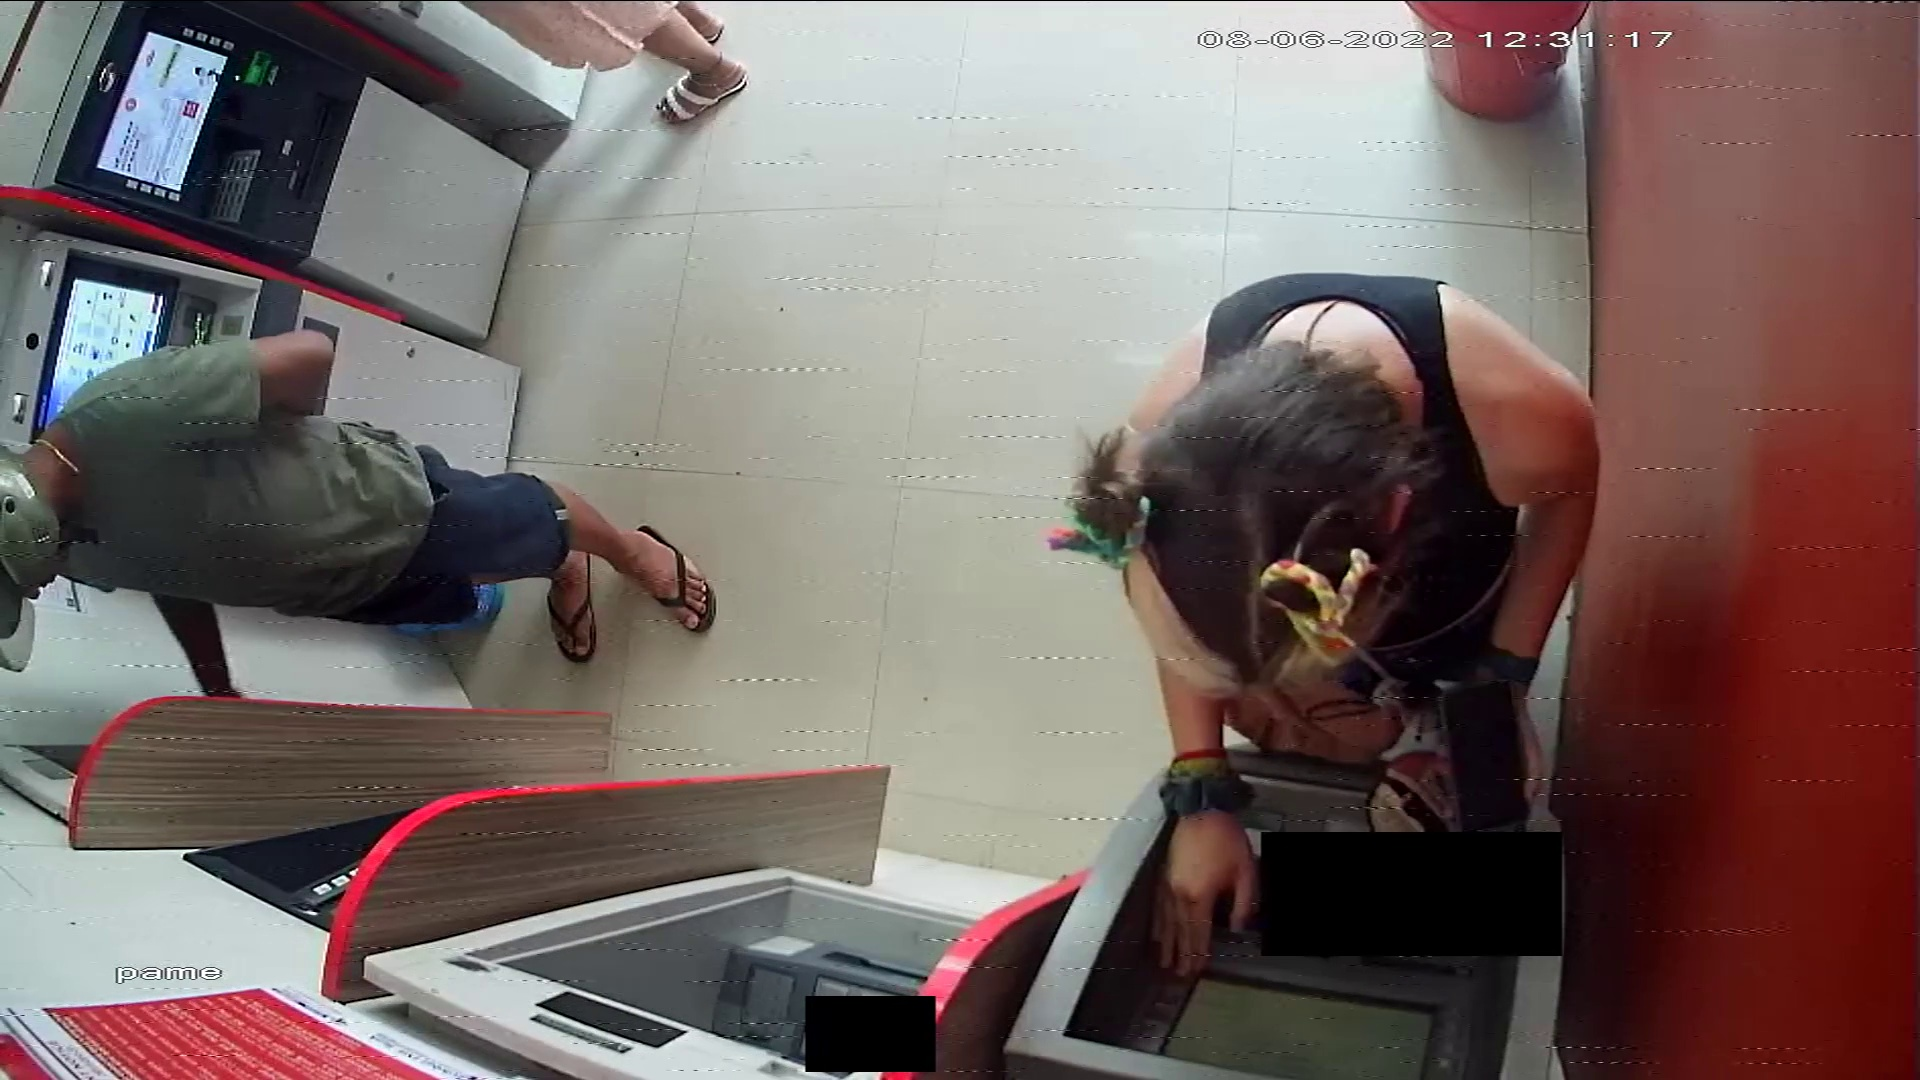helmet: (1, 444, 57, 676)
person: (1096, 274, 1601, 978), (1, 328, 716, 699)
phone: (1444, 681, 1528, 835)
